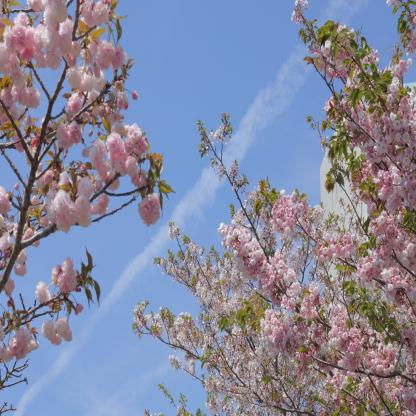YaeSakura: (139, 0, 416, 416), (0, 0, 160, 414)
